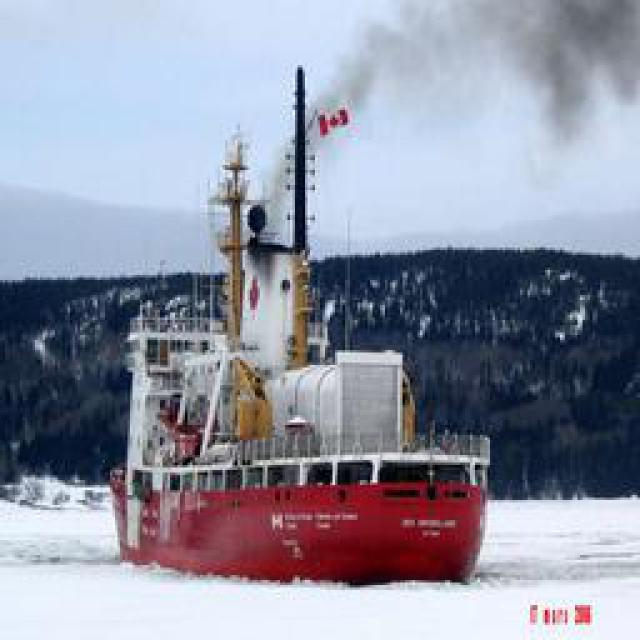Ship: (109, 62, 492, 581)
